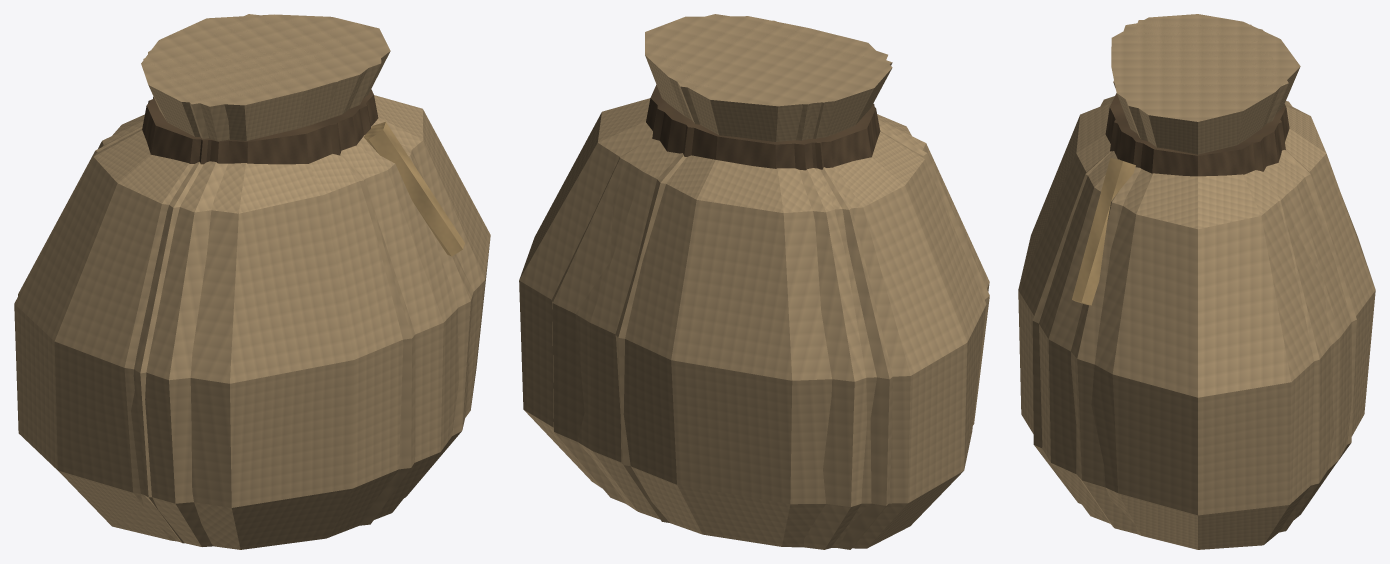
File: SupplySack.fbx
The picture shows the model from 3 angles, left to right: view 1: azimuth 30°, elevation 25°; view 2: azimuth 150°, elevation 25°; view 3: azimuth 270°, elevation 25°; orthographic projection. The views are drawn at different scales.
Visible parts, largest first — view 1: SupplySackDetail0, SupplySackDetail1, SupplySackDetail2; view 2: SupplySackDetail0, SupplySackDetail1, SupplySackDetail2; view 3: SupplySackDetail0, SupplySackDetail1, SupplySackDetail2.
Part boxes in pixels (left/top/right/bottom): SupplySackDetail0: left=14, top=14, right=490, bottom=549; SupplySackDetail1: left=98, top=15, right=473, bottom=546; SupplySackDetail2: left=18, top=14, right=415, bottom=543; SupplySackDetail0: left=519, top=16, right=986, bottom=548; SupplySackDetail1: left=552, top=14, right=989, bottom=549; SupplySackDetail2: left=615, top=20, right=989, bottom=549; SupplySackDetail0: left=1018, top=14, right=1375, bottom=549; SupplySackDetail1: left=1071, top=14, right=1333, bottom=534; SupplySackDetail2: left=1032, top=20, right=1356, bottom=504.
Bounding box in the file's own units: 58 × 55 × 43.
Materials: 1 (1 with a texture image).
